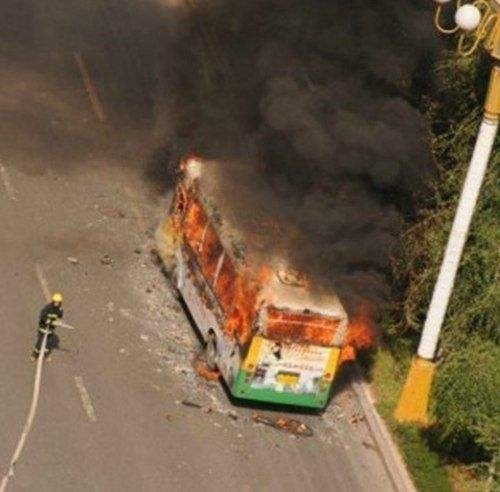fire: (148, 142, 378, 392)
